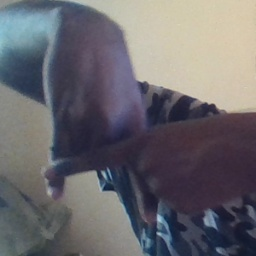H: (45, 108, 174, 218)
